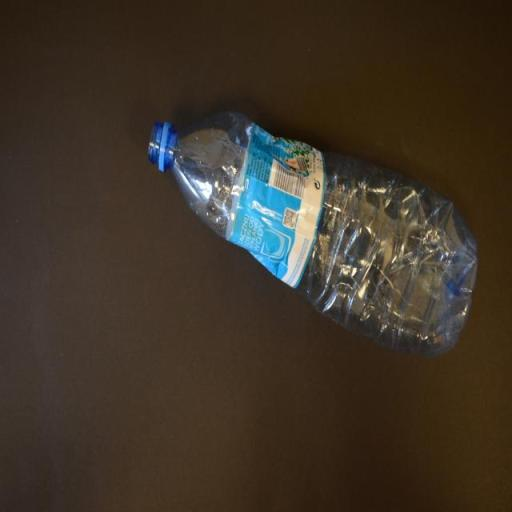plastic: (146, 108, 476, 358)
